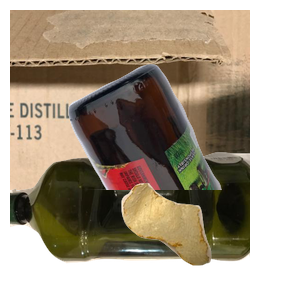cardboard: (10, 10, 250, 190)
glass: (66, 61, 300, 241)
plastic: (10, 149, 250, 300)
trash: (119, 181, 300, 300)
